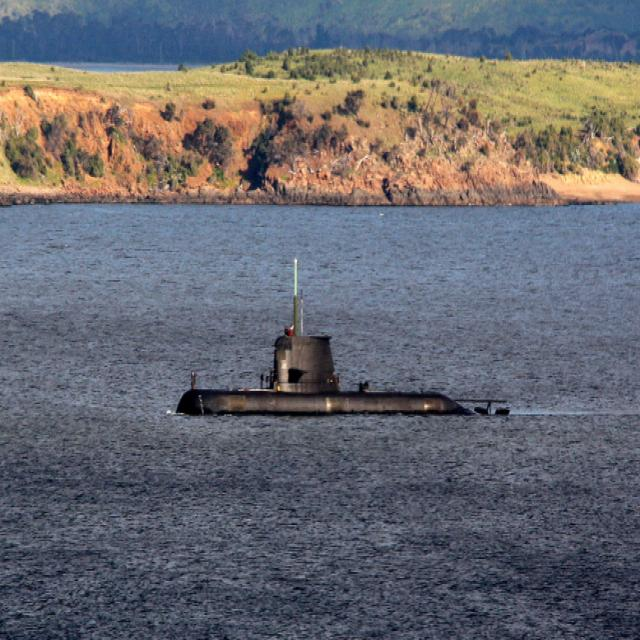submarine: (167, 252, 511, 417)
